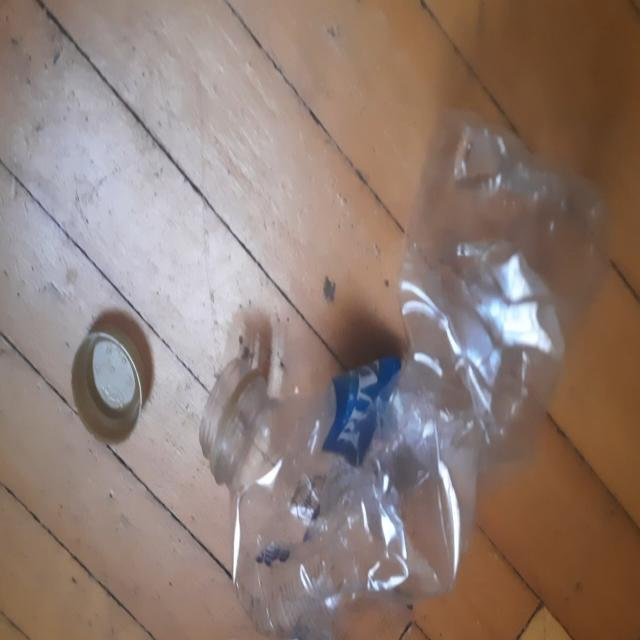Plastic: (199, 108, 611, 636)
